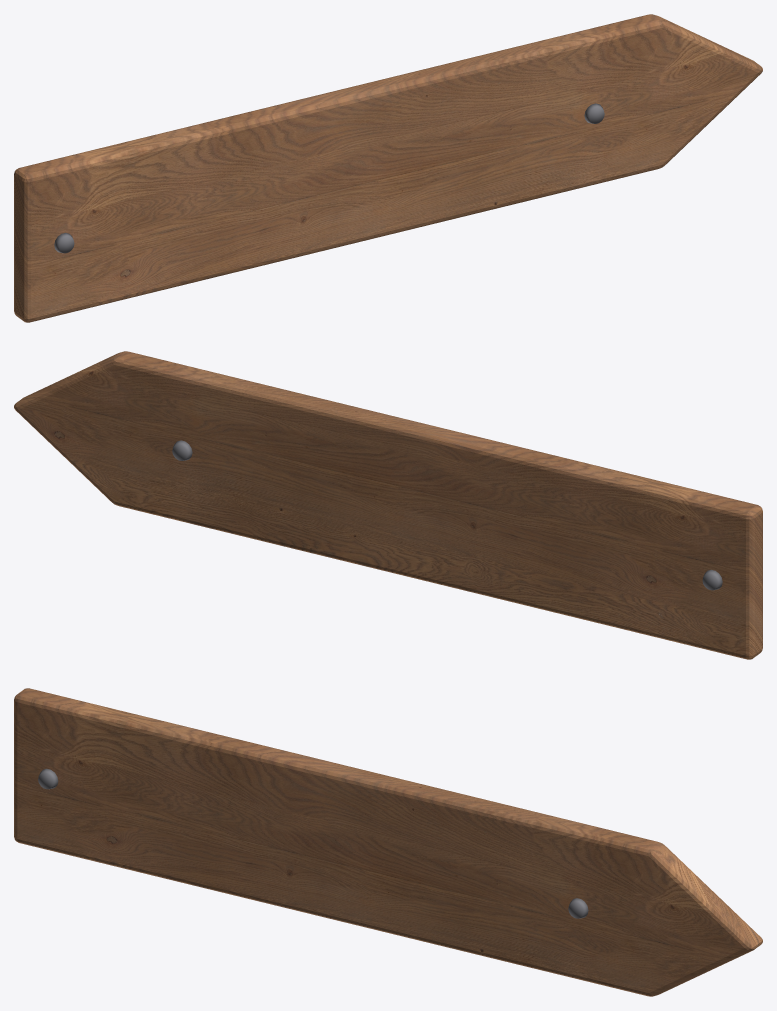
File: sign_arrow.glb
3 renders of one model, top to bottom at view 1: azimuth 30°, elevation 25°; view 2: azimuth 150°, elevation 25°; view 3: azimuth 330°, elevation 25°, orthographic.
Parts seen in each view (by area): view 1: seta; view 2: seta; view 3: seta.
Part boxes in pixels (x1,y1,x2,y2): seta: (14,14,762,322); seta: (14,351,762,659); seta: (14,688,762,996).
Size of the model in its own units: 1.56 by 0.3 by 0.082.
Materials: 2 (1 with a texture image).
